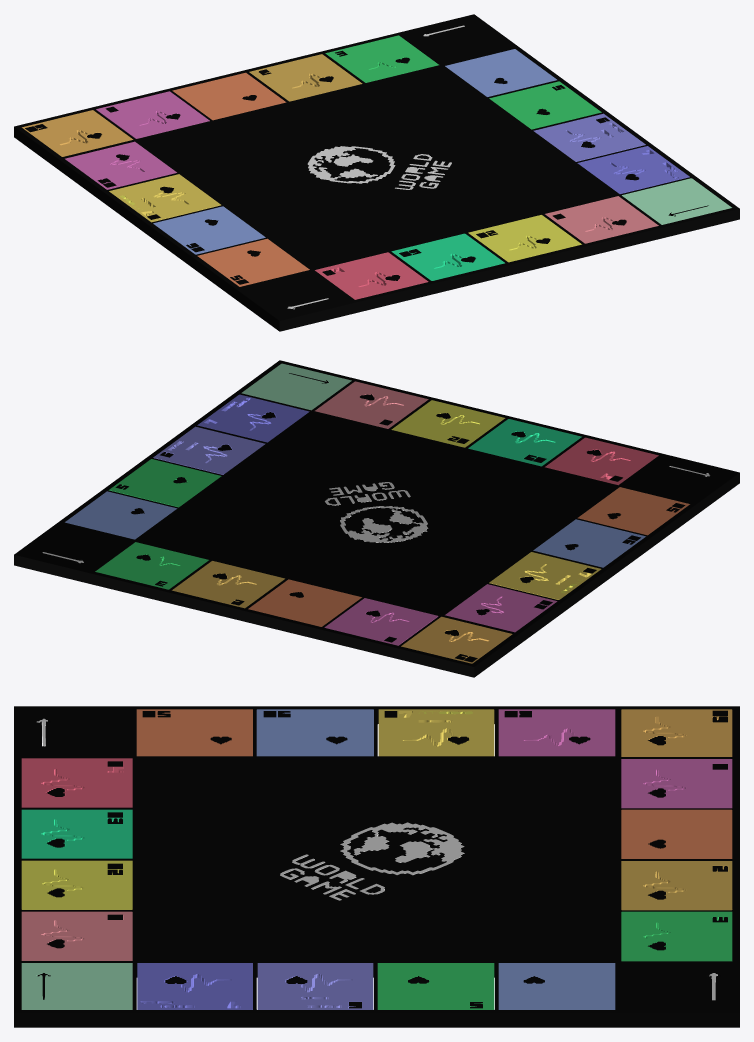
The model's file is board.glb.
The picture shows the model from 3 angles, top to bottom: view 1: azimuth 30°, elevation 25°; view 2: azimuth 150°, elevation 25°; view 3: azimuth 270°, elevation 25°; orthographic projection. The views are drawn at different scales.
Parts seen in each view (by area): view 1: Node1, Node43, Node46, Node56, Node49, Node47, Node48, Node54, Node55, Node60, Node45, Node57 (+9 smaller); view 2: Node1, Node43, Node46, Node48, Node49, Node56, Node47, Node60, Node54, Node45, Node55, Node51 (+9 smaller); view 3: Node1, Node47, Node43, Node46, Node45, Node57, Node55, Node49, Node54, Node50, Node44, Node48 (+9 smaller).
Part boxes in pixels (bbox=[...]): Node1: bbox=[14, 14, 739, 331]; Node43: bbox=[172, 72, 286, 120]; Node46: bbox=[445, 49, 556, 96]; Node56: bbox=[577, 146, 689, 193]; Node49: bbox=[96, 91, 209, 138]; Node47: bbox=[325, 35, 438, 82]; Node48: bbox=[489, 81, 601, 129]; Node54: bbox=[545, 196, 658, 243]; Node55: bbox=[315, 252, 428, 299]; Node60: bbox=[533, 113, 645, 161]; Node45: bbox=[153, 206, 265, 254]; Node57: bbox=[249, 54, 362, 101]; Node1: bbox=[14, 360, 739, 677]; Node43: bbox=[248, 579, 361, 626]; Node46: bbox=[65, 491, 177, 539]; Node48: bbox=[109, 459, 221, 507]; Node49: bbox=[324, 598, 438, 645]; Node56: bbox=[197, 394, 309, 442]; Node47: bbox=[95, 542, 208, 589]; Node60: bbox=[153, 426, 265, 474]; Node54: bbox=[315, 381, 428, 428]; Node45: bbox=[533, 519, 645, 567]; Node55: bbox=[545, 437, 658, 485]; Node51: bbox=[391, 400, 505, 447]; Node1: bbox=[14, 706, 739, 1027]; Node47: bbox=[621, 911, 732, 961]; Node43: bbox=[621, 809, 732, 858]; Node46: bbox=[498, 963, 615, 1009]; Node45: bbox=[256, 709, 373, 756]; Node57: bbox=[621, 861, 732, 910]; Node55: bbox=[21, 758, 132, 807]; Node49: bbox=[621, 759, 732, 808]; Node54: bbox=[21, 911, 132, 960]; Node50: bbox=[498, 709, 615, 756]; Node44: bbox=[136, 709, 252, 756]; Node48: bbox=[377, 963, 494, 1009].
Size of the model in its own units: 4.5 by 0.1 by 4.5.
